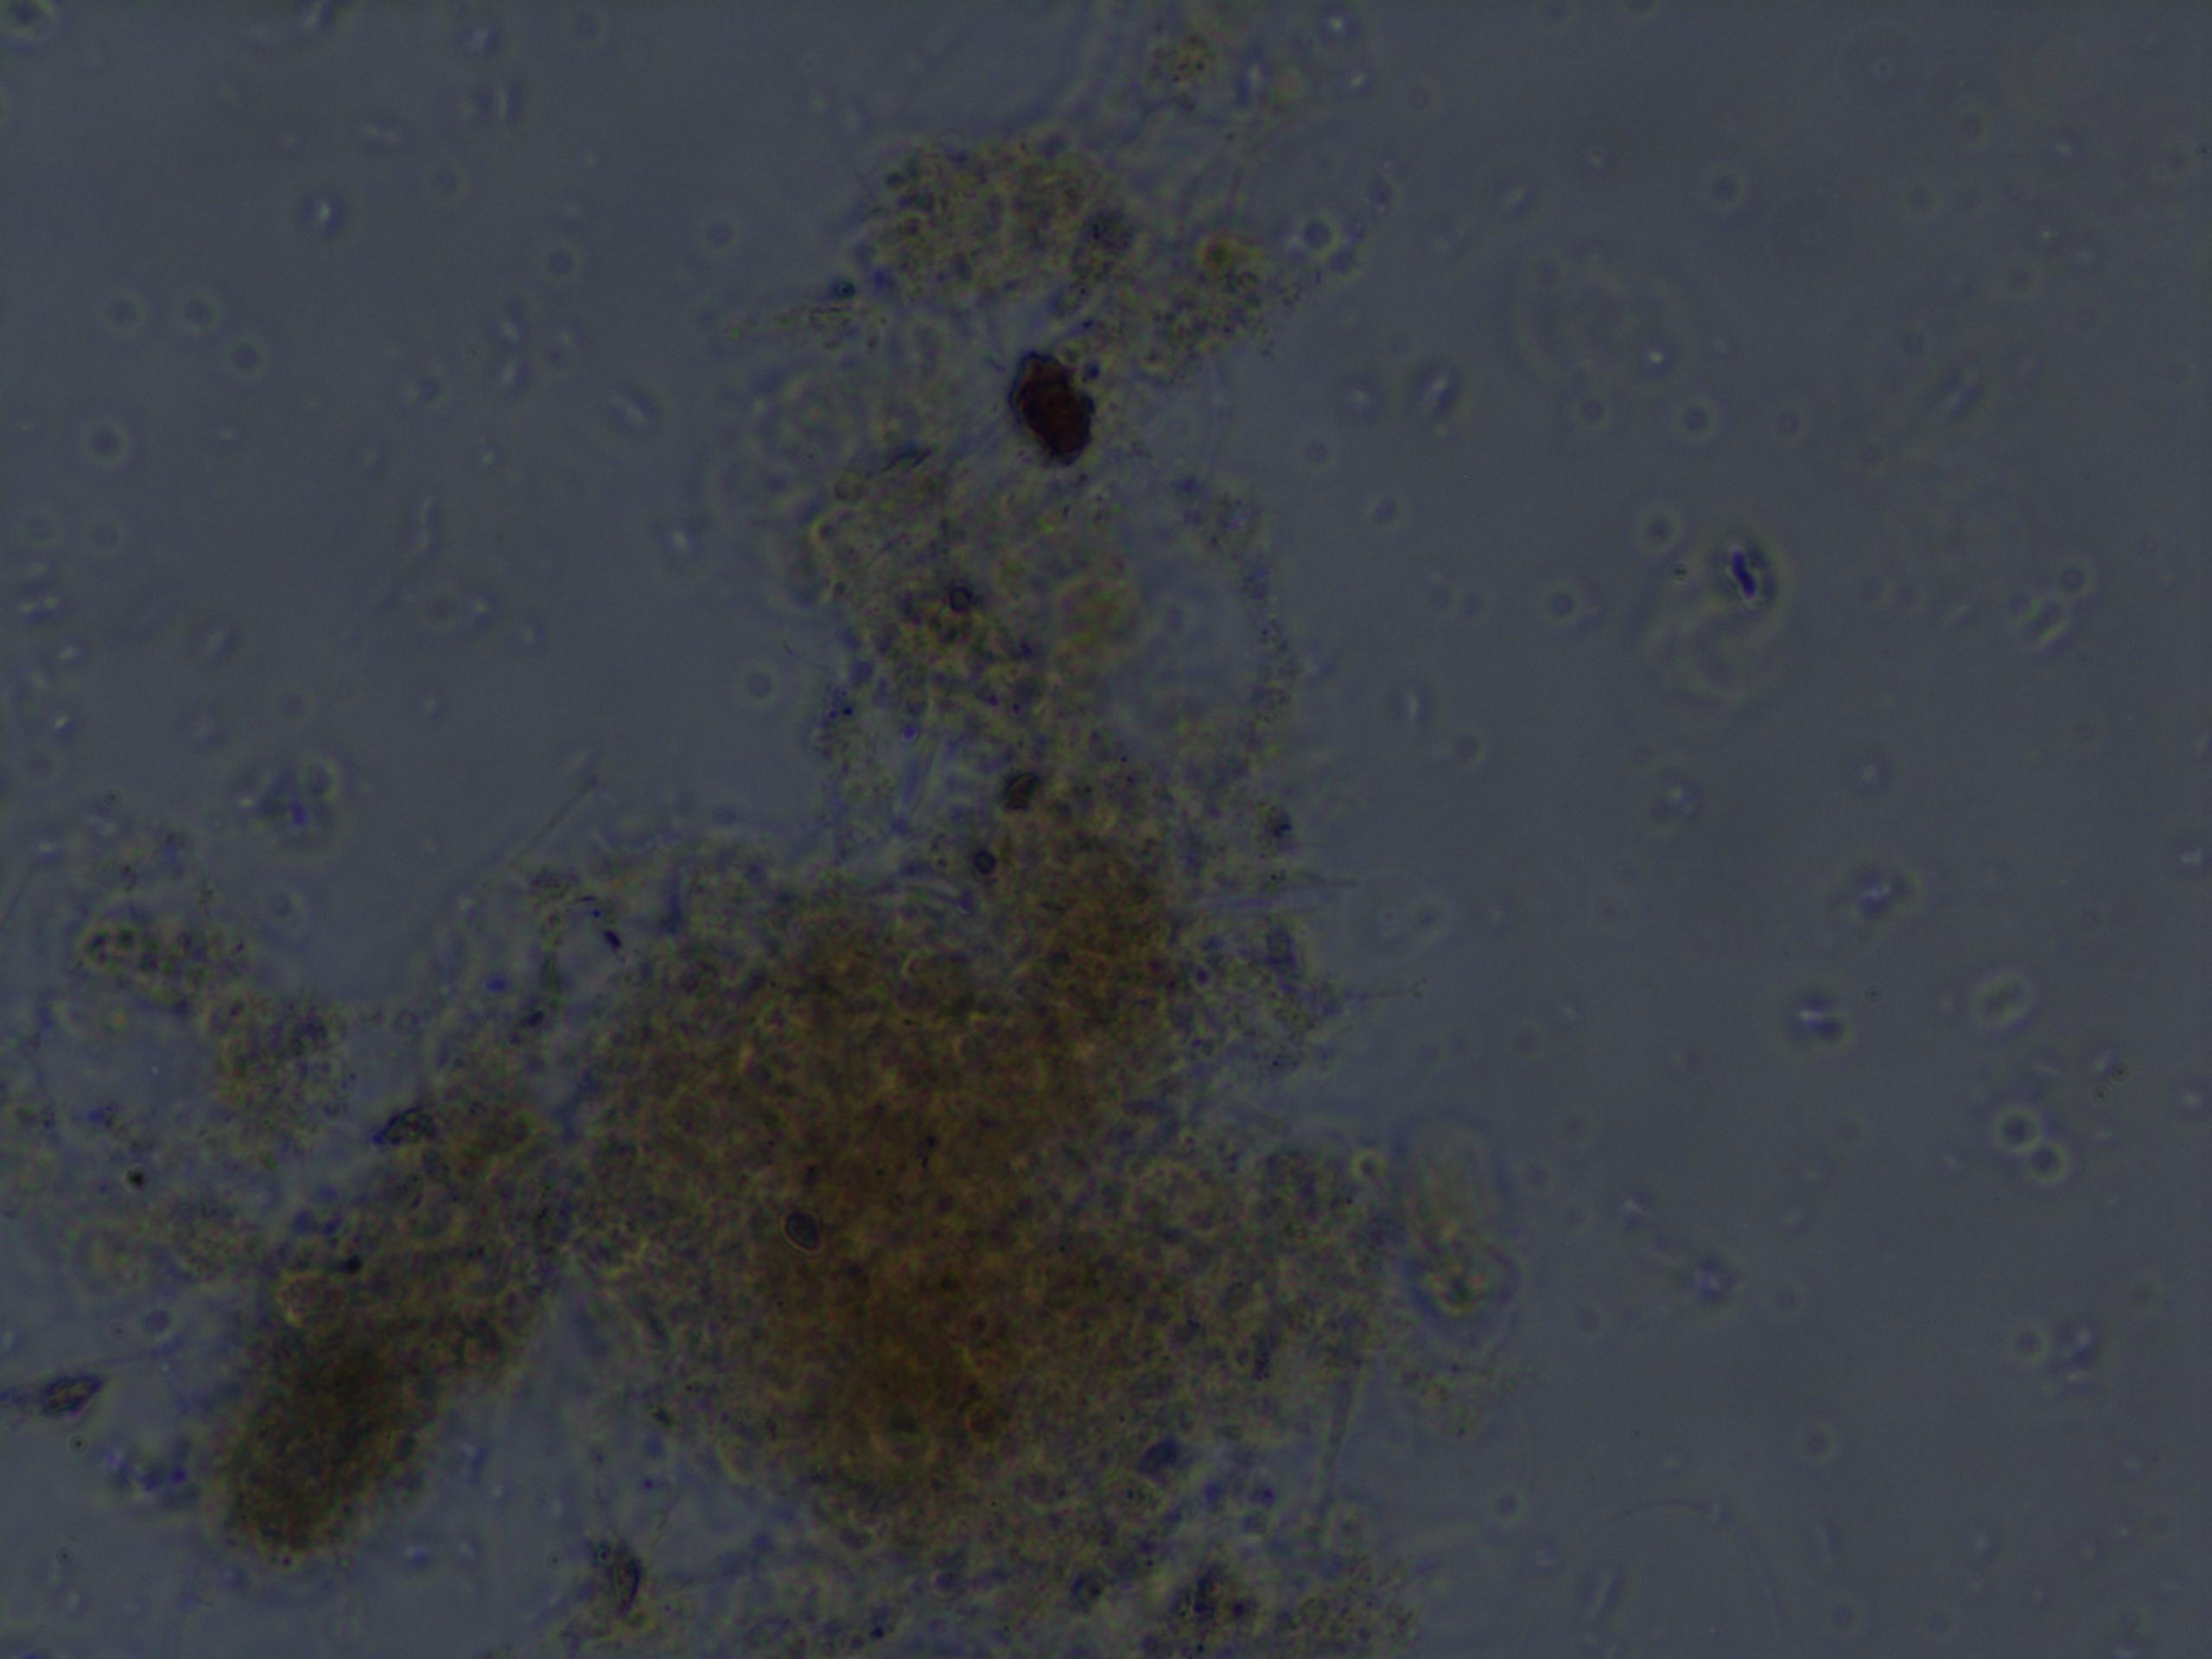open_floc: (131, 117, 1454, 1659)
